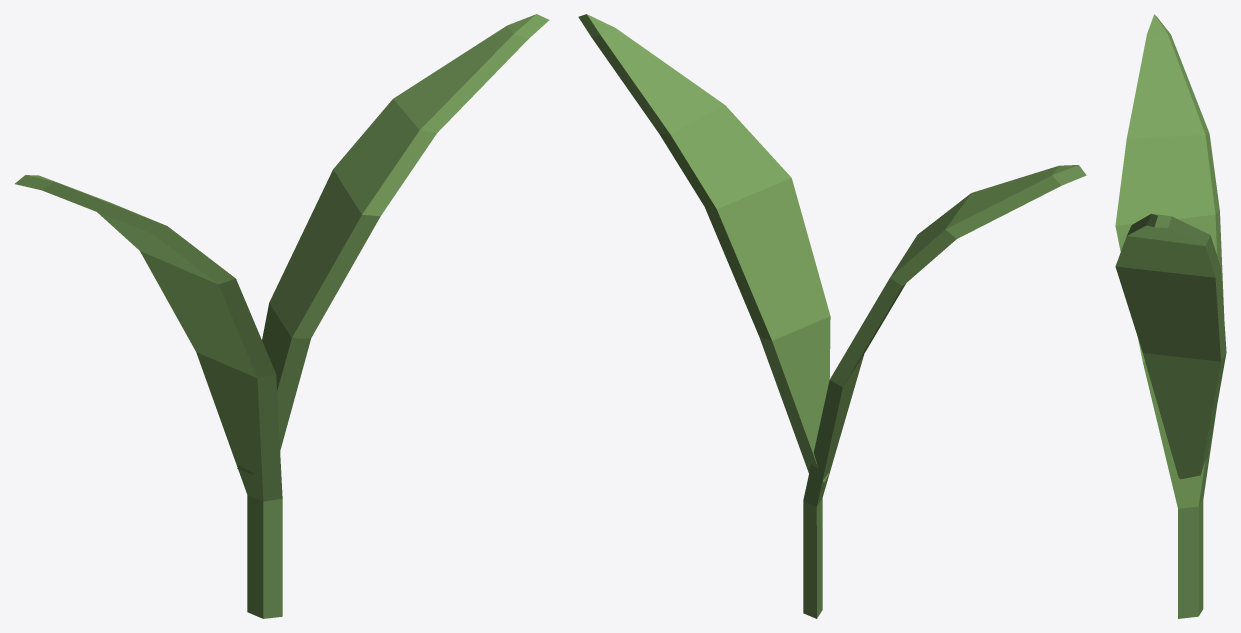
The model's file is carrot_1.gltf.
3 views of the same model, side by side, from view 1: azimuth 30°, elevation 25°; view 2: azimuth 150°, elevation 25°; view 3: azimuth 270°, elevation 25° (orthographic). The views are drawn at different scales.
Parts seen in each view (by area): view 1: carrot_1; view 2: carrot_1; view 3: carrot_1.
Boxes of the visible parts, <box> form: carrot_1: <box>15,14,549,618</box>; carrot_1: <box>578,14,1086,618</box>; carrot_1: <box>1115,14,1226,618</box>.
Size of the model in its own units: 0.3551 by 0.3502 by 0.0686.
Materials: 1 (1 with a texture image).
